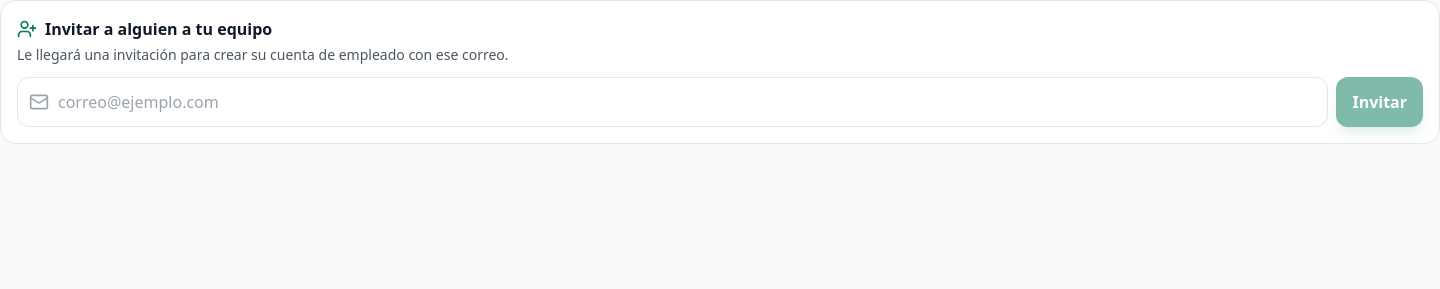
Scenario: InviteMemberCard › en el panel de equipo (tarjeta de siempre) › invita con solo el correo (la empresa ya existe: no hay declaración que pedir) y manda el correo de invitación
expect the heading "Invitar a alguien a tu equipo" is shown: met, box [17, 18, 272, 40]
Type "ana@correo.com" into the field named "Correo de la persona" at (673, 102), box [17, 77, 1328, 127]
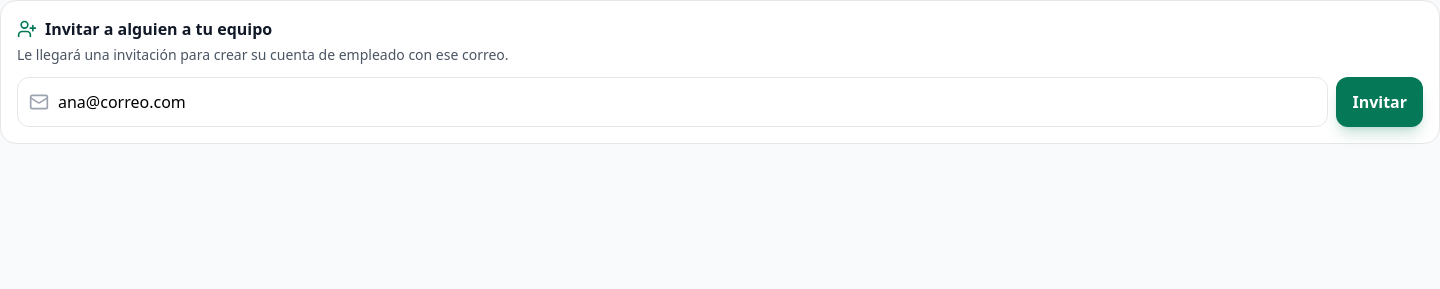
Click the button "Invitar" at (1380, 102), box [1336, 77, 1423, 127]
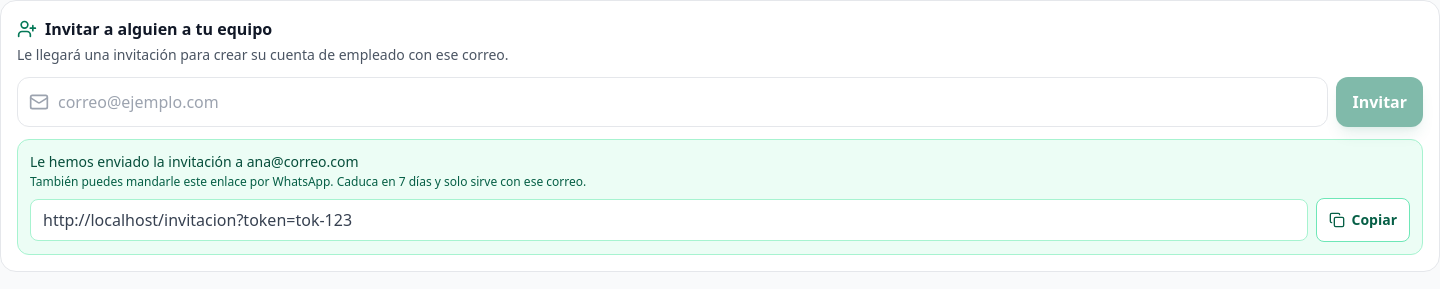
expect the text "Le hemos enviado la invitación a ana@correo.com" is shown: met, box [30, 152, 359, 171]
